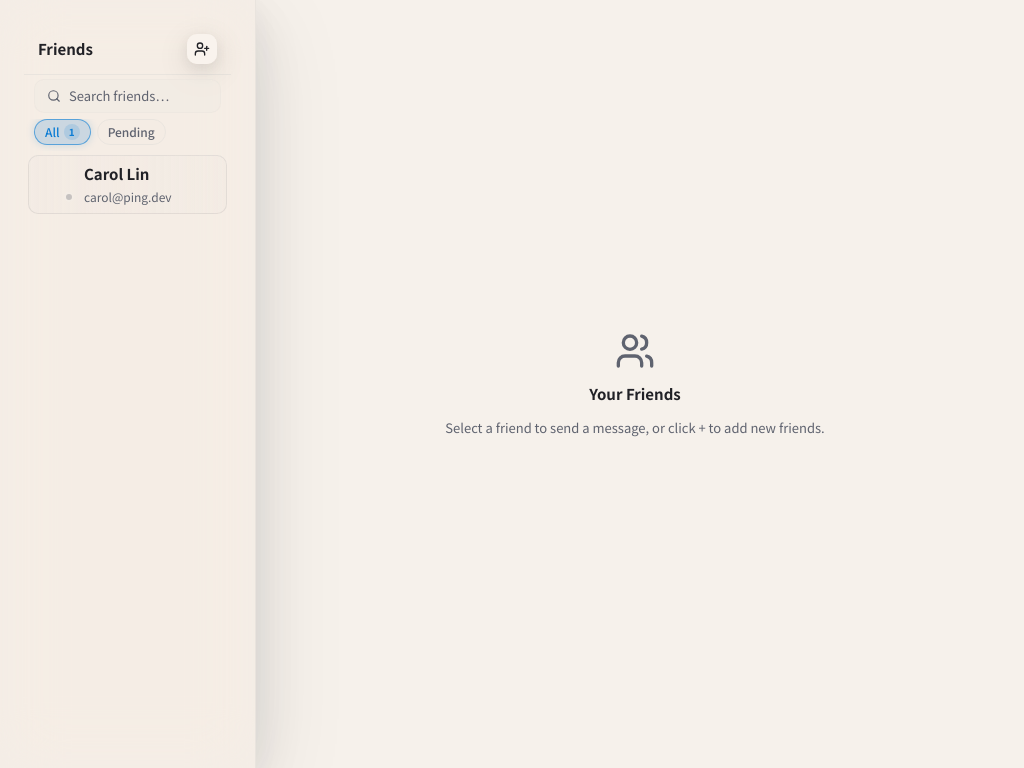
Scenario: TC-F-NEW-01: Search results show ACCEPTED status for friends › shows Friends badge (not Add Friend) when search result is already a friend
Open AddFriendModal — user search is behind the modal
Click the button named "add friend" at (202, 49), box [187, 34, 217, 64]
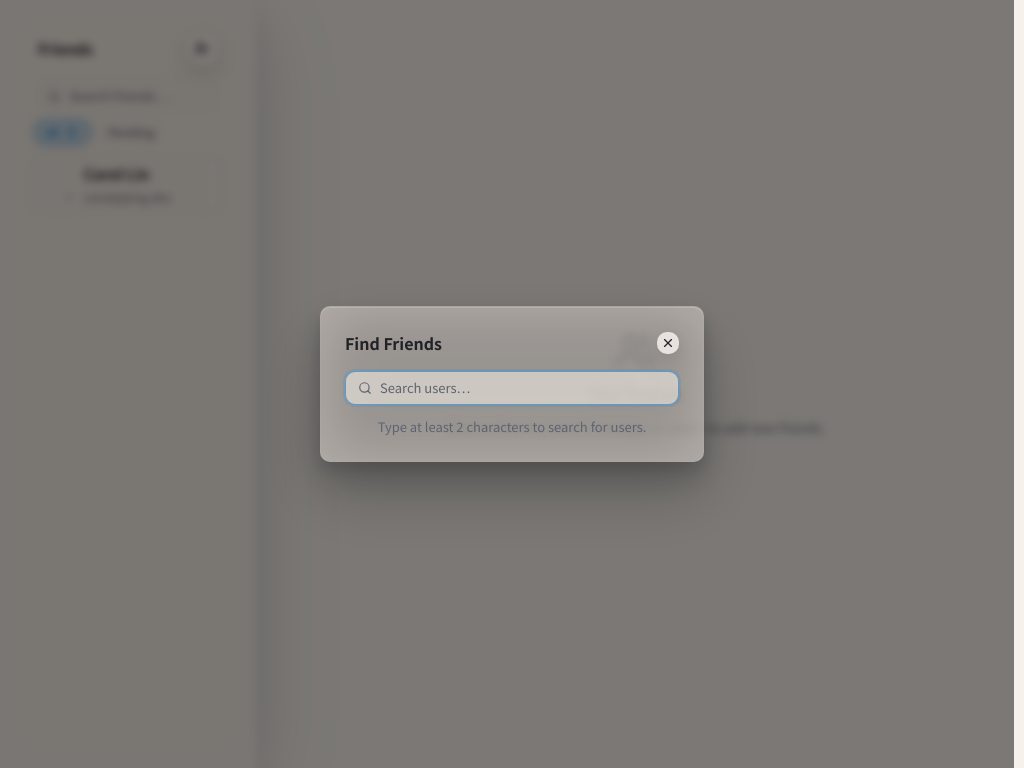
Type "Carol" into the search field with placeholder "Search users…" at (523, 388), box [380, 378, 666, 398]
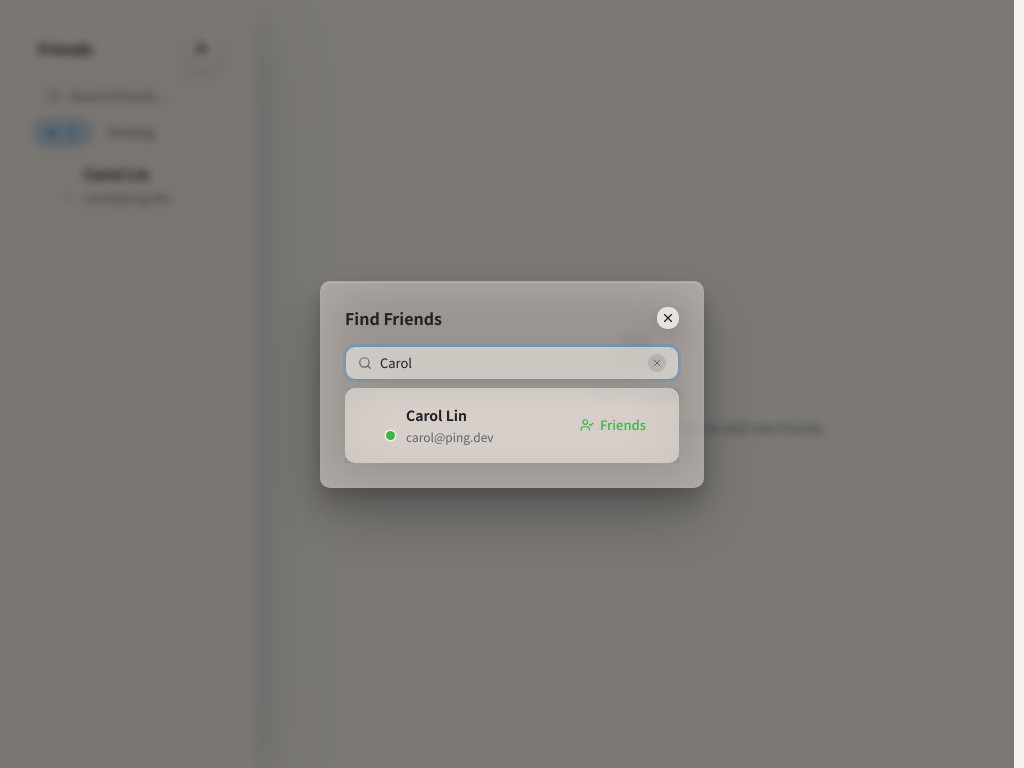
expect the element with test id "user-card-user-3" is shown: met, box [345, 388, 679, 462]
expect the text "Friends" is shown: met, box [600, 415, 646, 435]
